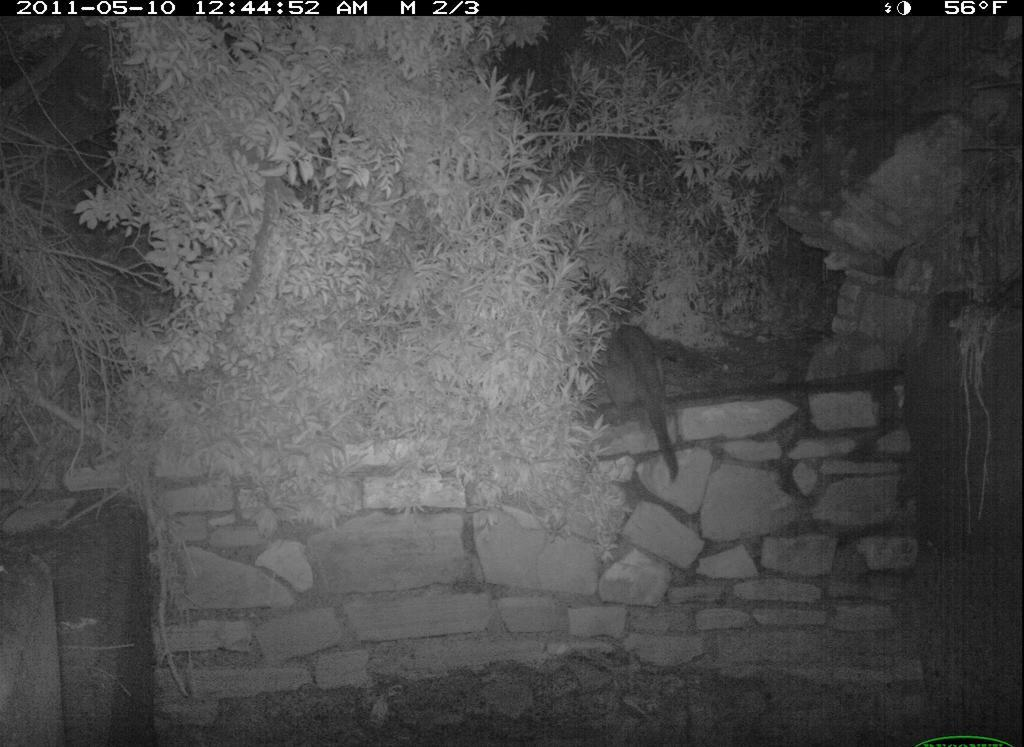cat: (598, 310, 699, 491)
